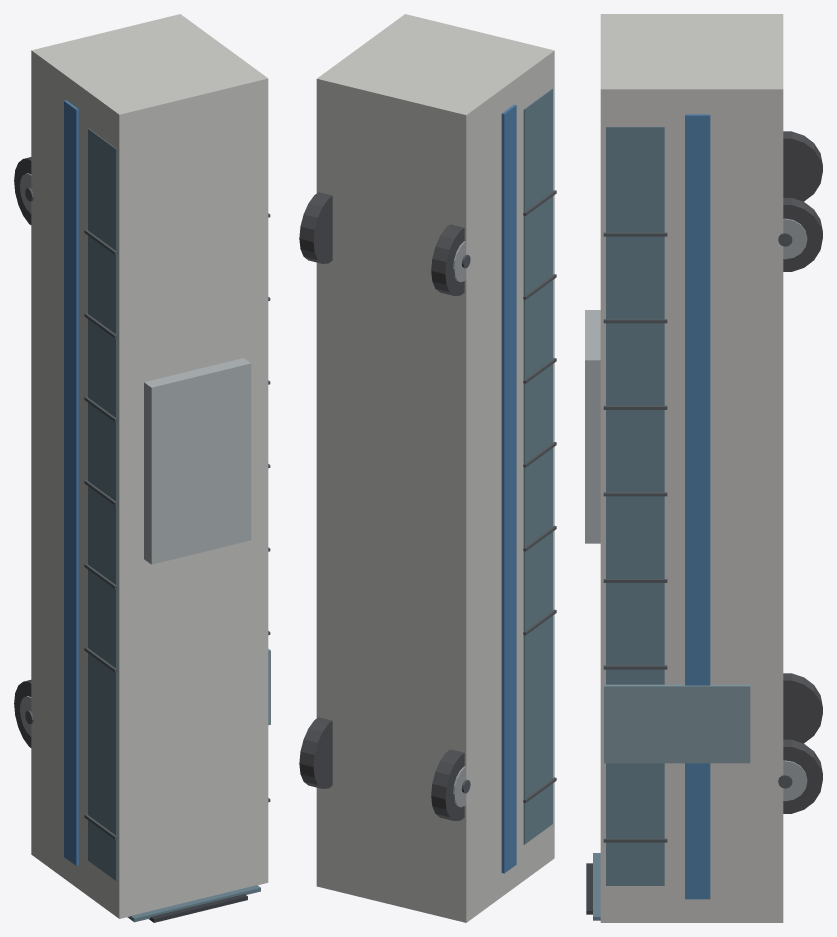
Rendered from coach_intercity_bus.glb.
3 renders of one model, left to right at view 1: azimuth 30°, elevation 25°; view 2: azimuth 150°, elevation 25°; view 3: azimuth 270°, elevation 25°, orthographic. The views are drawn at different scales.
Parts seen in each view (by area): view 1: 0000_Bus_body, 0001_Bus_window_band, 0021_Roof_AC, 0002_Transit_blue_livery, 0004_Front_windshield, 0005_Destination_display, 0022_Wheel_tire, 0028_Wheel_tire; view 2: 0000_Bus_body, 0001_Bus_window_band, 0002_Transit_blue_livery, 0031_Wheel_tire, 0025_Wheel_tire, 0022_Wheel_tire, 0028_Wheel_tire; view 3: 0000_Bus_body, 0001_Bus_window_band, 0003_Transit_blue_livery, 0006_Passenger_doors, 0021_Roof_AC, 0028_Wheel_tire, 0022_Wheel_tire, 0025_Wheel_tire, 0031_Wheel_tire, 0032_Wheel_rim, 0026_Wheel_rim, 0004_Front_windshield.
Boxes of the visible parts, x1,y1,x2,y2 form: 0000_Bus_body: (31,14,268,918); 0001_Bus_window_band: (88,128,116,880); 0021_Roof_AC: (144,358,251,564); 0002_Transit_blue_livery: (64,100,78,865); 0004_Front_windshield: (127,885,260,922); 0005_Destination_display: (149,894,247,922); 0022_Wheel_tire: (14,680,31,747); 0028_Wheel_tire: (14,157,31,224); 0000_Bus_body: (316,14,554,922); 0001_Bus_window_band: (523,88,552,844); 0002_Transit_blue_livery: (501,104,516,873); 0031_Wheel_tire: (299,192,332,263); 0025_Wheel_tire: (299,717,332,788); 0022_Wheel_tire: (431,749,464,820); 0028_Wheel_tire: (431,224,464,295); 0000_Bus_body: (600,14,783,922); 0001_Bus_window_band: (606,127,664,885); 0003_Transit_blue_livery: (685,114,710,899); 0006_Passenger_doors: (604,684,750,763); 0021_Roof_AC: (585,310,600,543); 0028_Wheel_tire: (783,131,822,201); 0022_Wheel_tire: (783,673,822,743); 0025_Wheel_tire: (783,739,822,813); 0031_Wheel_tire: (783,198,822,271); 0032_Wheel_rim: (783,218,807,259); 0026_Wheel_rim: (783,760,807,801); 0004_Front_windshield: (593,853,600,920).
Bounding box in the file's own units: 2.64 × 13.09 × 3.36.
